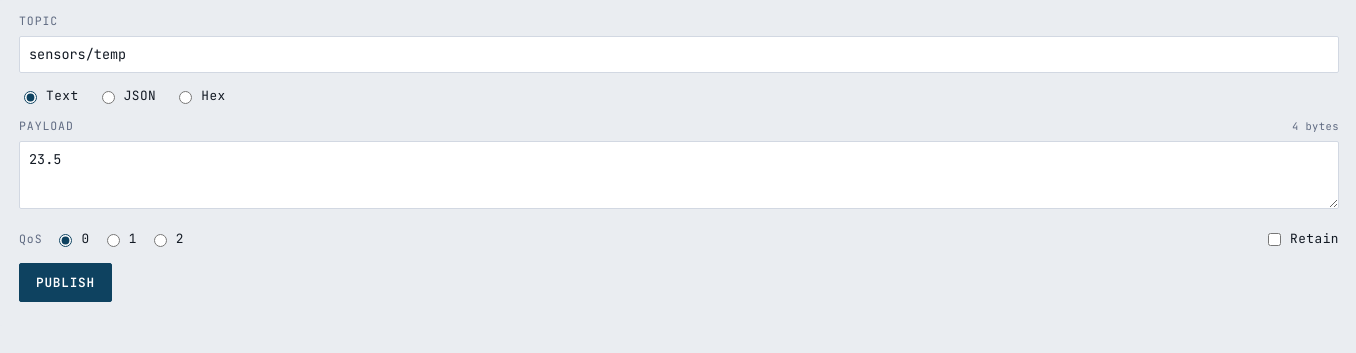
it: PublishPanel › says at the button that the publish did not happen
What coordinates should you click on to do the following:
click the button "Publish"
I would click on:
 (65, 282)
Its box is 19,262 -> 112,302.
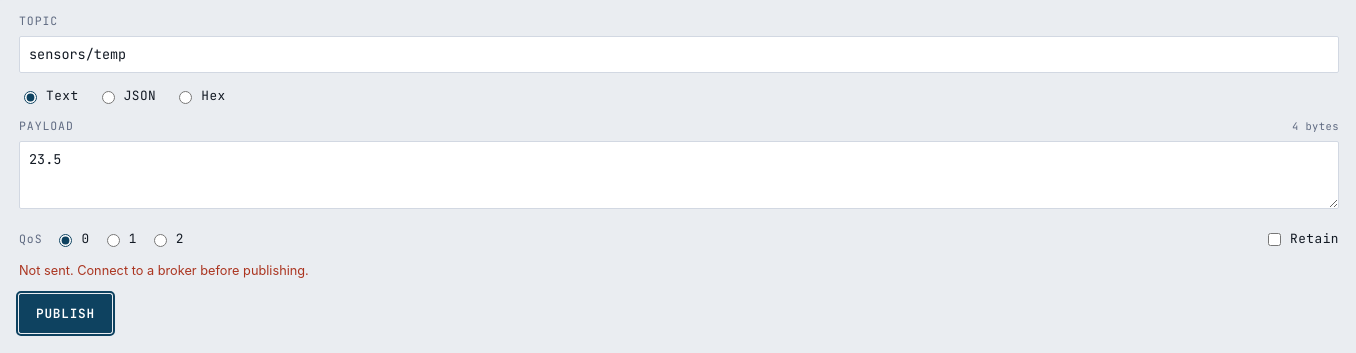
Check: the message with test id "publish-fault" shows "Not sent.", box 19,262 -> 77,278
Check: the message with test id "publish-fault" shows "Connect to a broker before publishing.", box 77,262 -> 309,278
